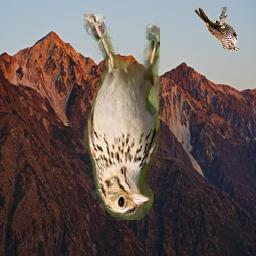Sparrow: (84, 14, 160, 220), (195, 8, 240, 53)
